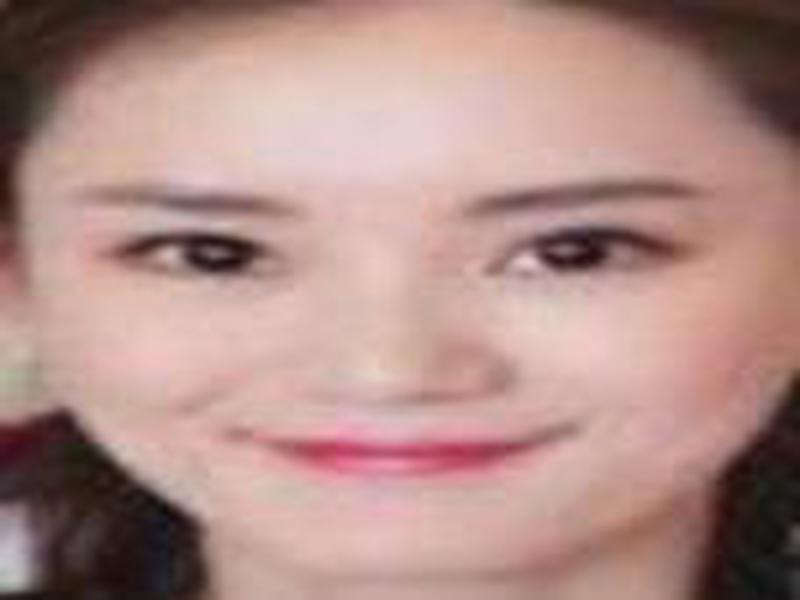without_mask: (33, 57, 770, 584)
